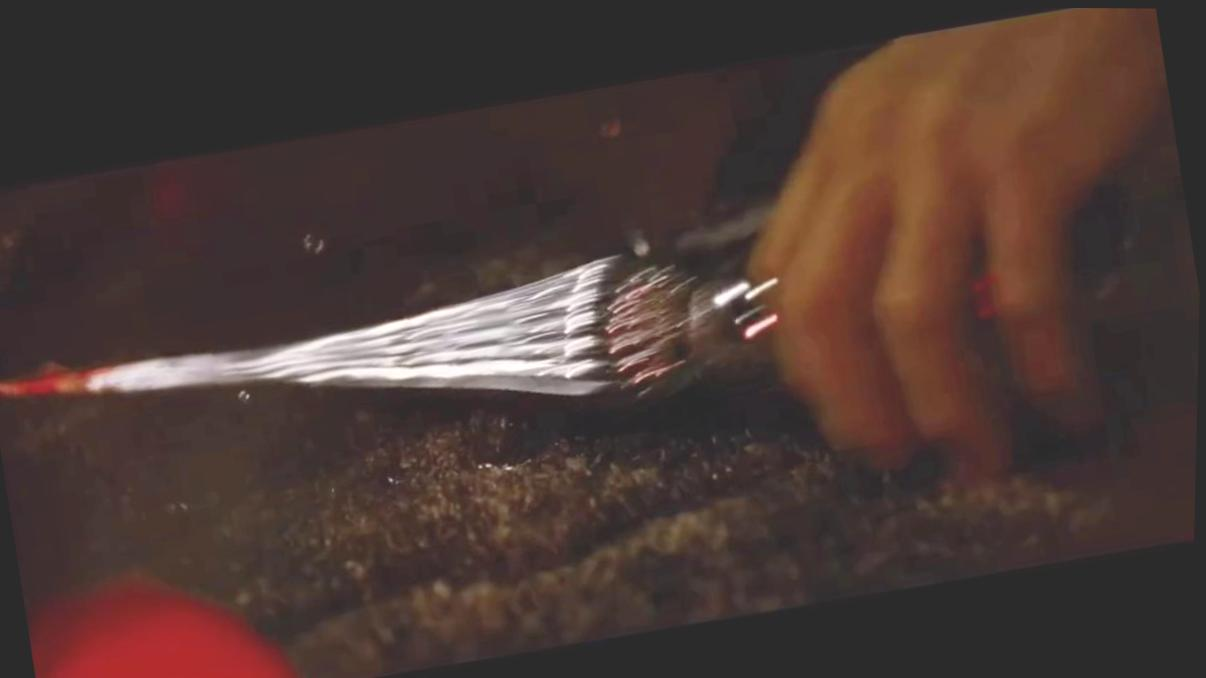Fire: (0, 352, 152, 409)
